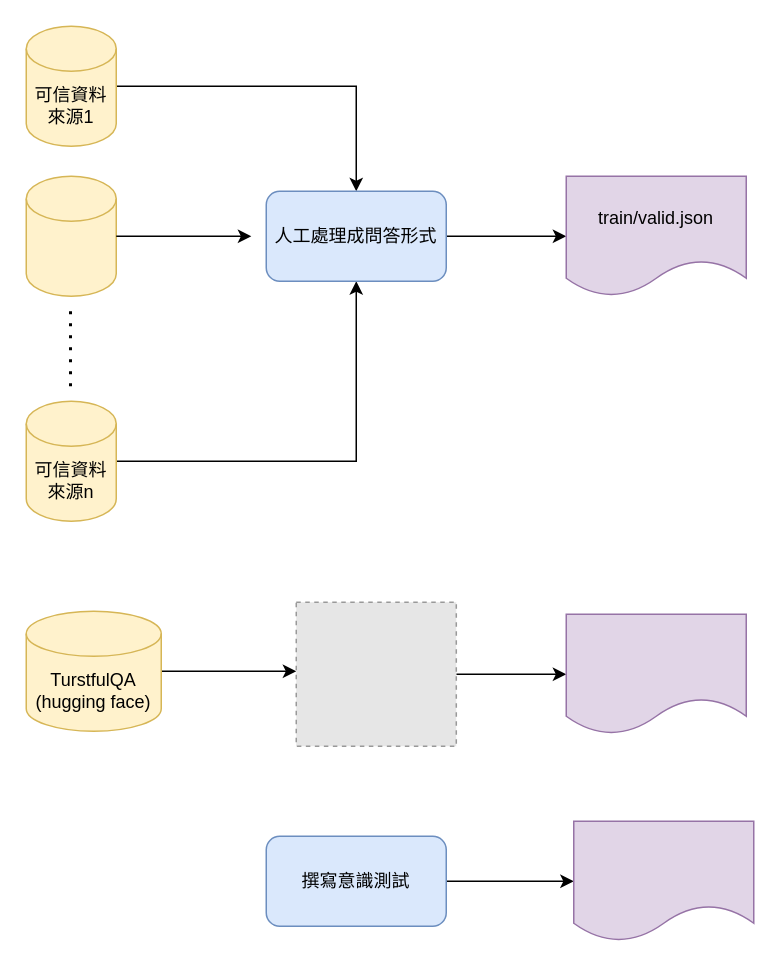
Image size: 780x968. Some labels were removed from this diagram. Grey dashed boxes stand in for pictures. The centre of each missing label's shape, as x and y in pixels:
"CT.csv" goes at (663,880).
"TQAZH.csv" goes at (655,673).
"可信資料來源2" goes at (70,235).
